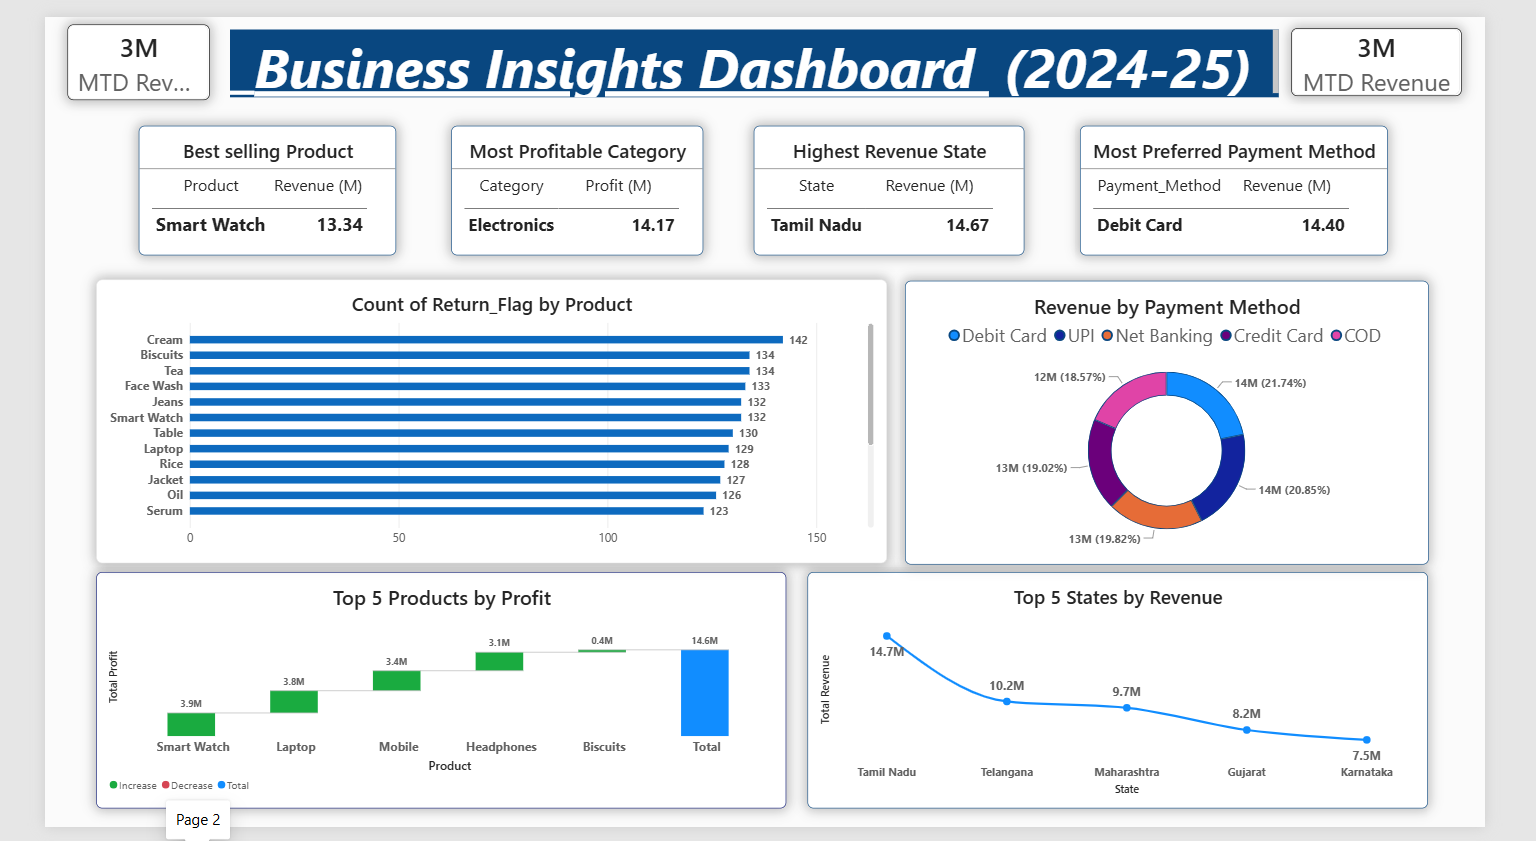

Layout of this report page (visuals, bound fields, positions):
{"tool":"powerbi","page":{"name":"Page 2","canvas":[1920,1080],"ordinal":1},"visuals":[{"type":"textbox","box":[246,16,1398,90],"z":0},{"type":"tableEx","title":"Best selling Product","fields":{"Values":["E-Commerce Data.Product","E-Commerce Data.Revenue M"]},"box":[124.4,144.6,343.5,172.5],"z":1000},{"type":"tableEx","title":"Most Profitable Category","fields":{"Values":["E-Commerce Data.Category","E-Commerce Data.Profit M"]},"box":[542.5,144.6,335.8,172.5],"z":2000},{"type":"tableEx","title":"Highest Revenue State","fields":{"Values":["E-Commerce Data.State","E-Commerce Data.Revenue M"]},"box":[945.1,144.6,360.6,172.5],"z":3000},{"type":"tableEx","title":"Most Preferred Payment Method","fields":{"Values":["E-Commerce Data.Payment_Method","E-Commerce Data.Revenue M"]},"box":[1380.3,144.6,410.4,172.5],"z":4000},{"type":"lineChart","title":"Top 5 States by Revenue","fields":{"Category":["E-Commerce Data.State"],"Y":["E-Commerce Data.Total Revenue"]},"box":[1016.6,739.9,826.9,315.5],"z":5000},{"type":"donutChart","title":"Revenue by Payment Method","fields":{"Category":["E-Commerce Data.Payment_Method"],"Y":["E-Commerce Data.Total Revenue"]},"box":[1146,352,698,378],"z":6000},{"type":"waterfallChart","title":"Top 5 Products by Profit","fields":{"Category":["E-Commerce Data.Product"],"Y":["E-Commerce Data.Total Profit"]},"box":[68.4,739.9,920.2,315.5],"z":7000},{"type":"barChart","fields":{"Category":["E-Commerce Data.Product"],"Y":["CountNonNull(E-Commerce Data.Return_Flag)"]},"box":[68,350,1054,378],"z":8000},{"type":"cardVisual","fields":{"Data":["Date Table.MTD Revenue"]},"box":[1661.7,15.5,226.9,90.2],"z":10000},{"type":"cardVisual","fields":{"Data":["Date Table.MTD Revenue"]},"box":[29.5,9.3,189.6,101],"z":10001}]}

Visuals, with their boxes in screenshot pixels (x1, y1, x2, y2), scaled from the page's 1920x1080 canvas onto the 1536x841 screenshot:
textbox: box(197, 12, 1315, 83)
"Best selling Product" tableEx: box(100, 113, 374, 247)
"Most Profitable Category" tableEx: box(434, 113, 703, 247)
"Highest Revenue State" tableEx: box(756, 113, 1045, 247)
"Most Preferred Payment Method" tableEx: box(1104, 113, 1433, 247)
"Top 5 States by Revenue" lineChart: box(813, 576, 1475, 822)
"Revenue by Payment Method" donutChart: box(917, 274, 1475, 568)
"Top 5 Products by Profit" waterfallChart: box(55, 576, 791, 822)
barChart - E-Commerce Data.Product x CountNonNull(E-Commerce Data.Return_Flag): box(54, 273, 898, 567)
cardVisual - Date Table.MTD Revenue: box(1329, 12, 1511, 82)
cardVisual - Date Table.MTD Revenue: box(24, 7, 175, 86)
